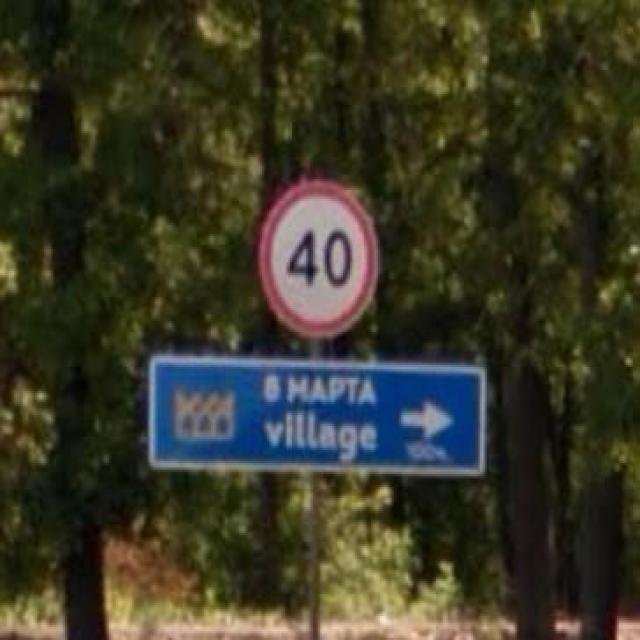Ograniczenie predkosci do 40: (258, 179, 382, 341)
